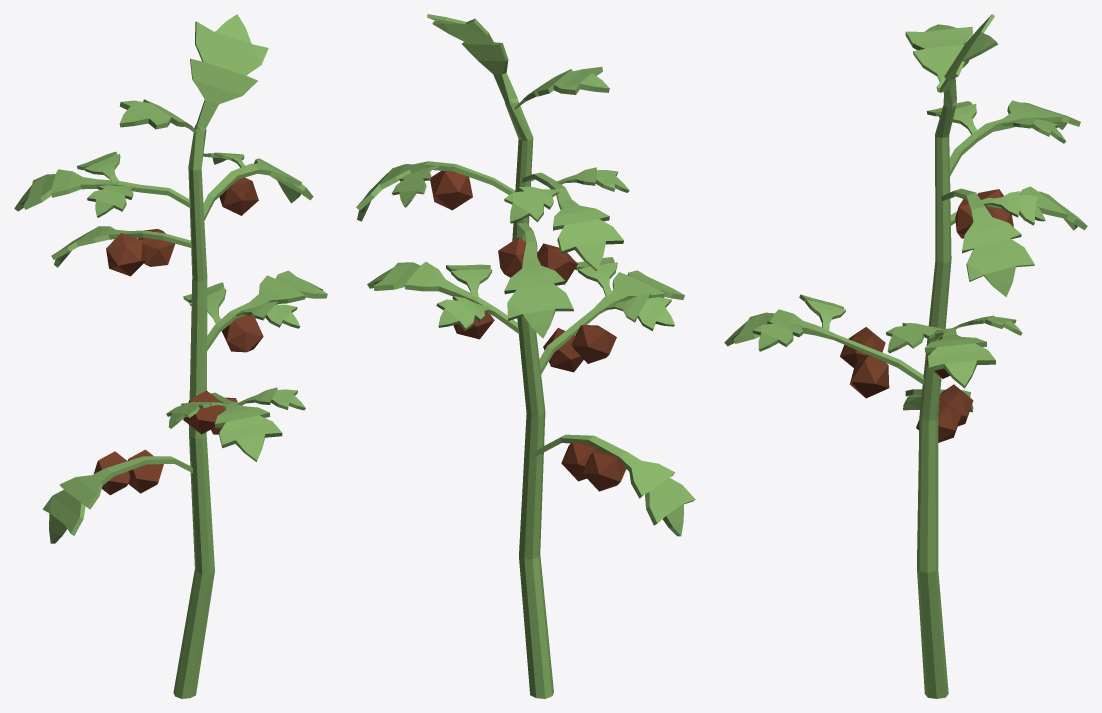
The model's file is Tomato_4.glb.
The picture shows the model from 3 angles, left to right: view 1: azimuth 30°, elevation 25°; view 2: azimuth 150°, elevation 25°; view 3: azimuth 270°, elevation 25°; orthographic projection. The views are drawn at different scales.
Parts seen in each view (by area): view 1: Tomato_4; view 2: Tomato_4; view 3: Tomato_4.
Boxes of the visible parts, bbox=[...] form: Tomato_4: bbox=[14, 14, 327, 698]; Tomato_4: bbox=[356, 14, 695, 698]; Tomato_4: bbox=[724, 14, 1087, 698].
Bounding box in the file's own units: 0.7932 × 1.72 × 0.81.
